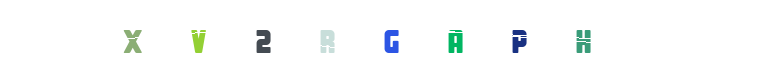2: (223, 0, 303, 80)
A: (351, 0, 431, 80)
G: (340, 0, 420, 80)
H: (478, 0, 558, 80)
P: (477, 0, 557, 80)
R: (336, 0, 416, 80)
V: (158, 0, 238, 80)
X: (133, 0, 213, 80)
